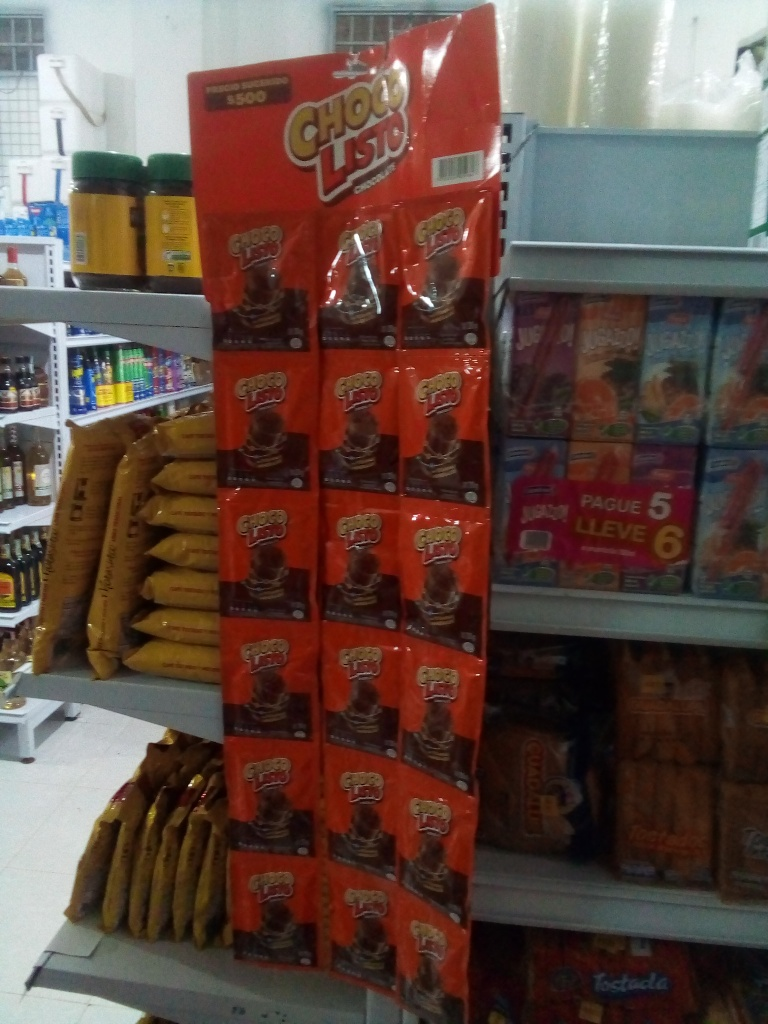COL0170103SOB02000: (209, 206, 317, 352)
